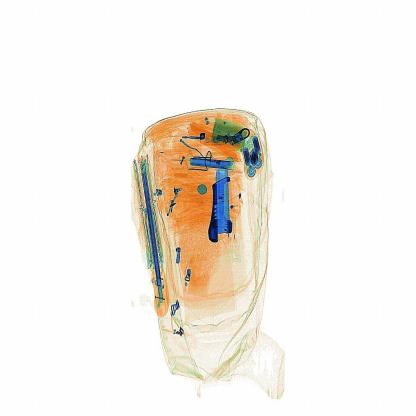pliers: (206, 166, 238, 240)
